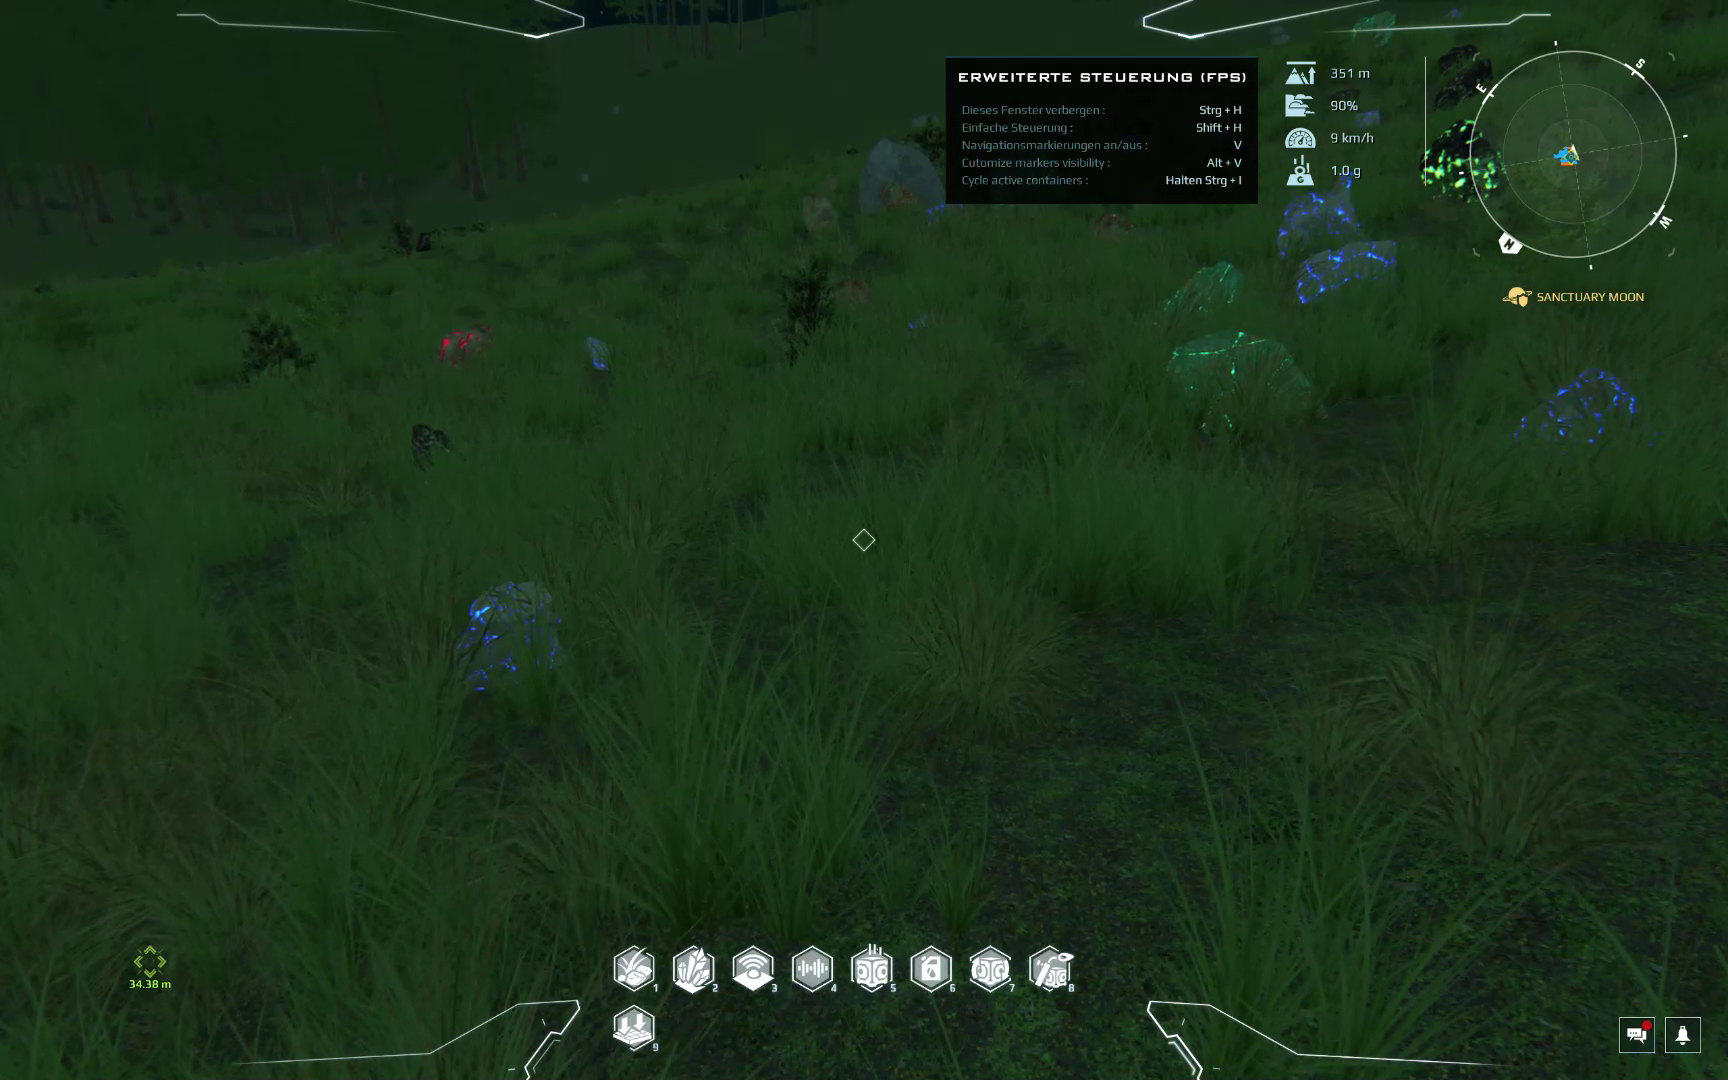Ore: (1164, 328, 1317, 432), (448, 579, 565, 691), (1512, 363, 1642, 447), (1295, 239, 1398, 300), (1147, 260, 1242, 319), (406, 423, 452, 472), (577, 332, 617, 384), (435, 326, 490, 363), (904, 304, 948, 347)
